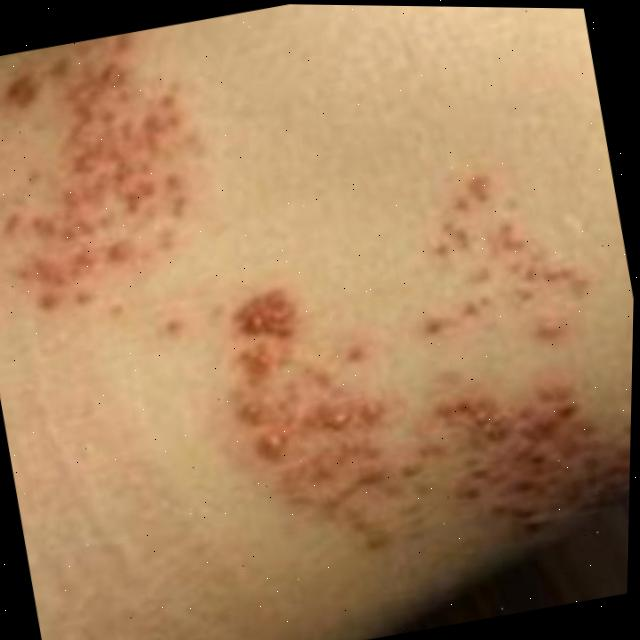Shingles: (0, 22, 226, 334), (217, 270, 428, 562), (436, 358, 632, 559), (411, 160, 601, 354)
